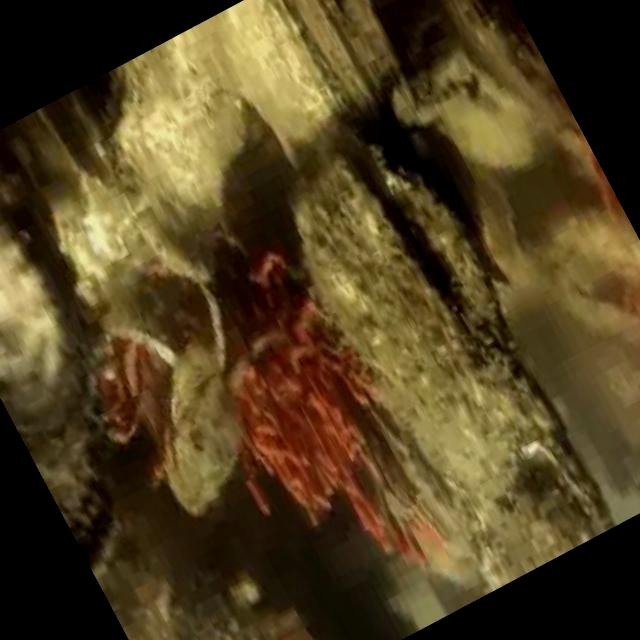Oyster-Closed: (0, 136, 89, 505)
Oyster-Open: (296, 140, 602, 588), (63, 482, 123, 585)
